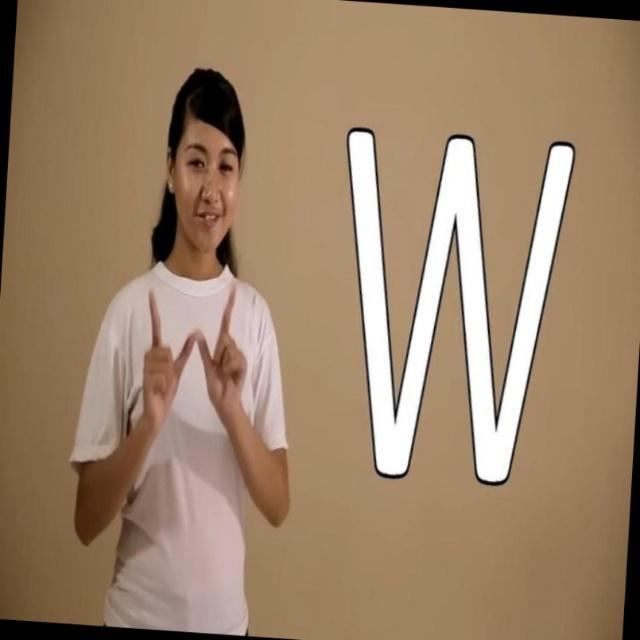W: (134, 272, 251, 410)
